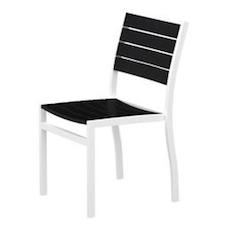chair: (21, 5, 189, 220)
